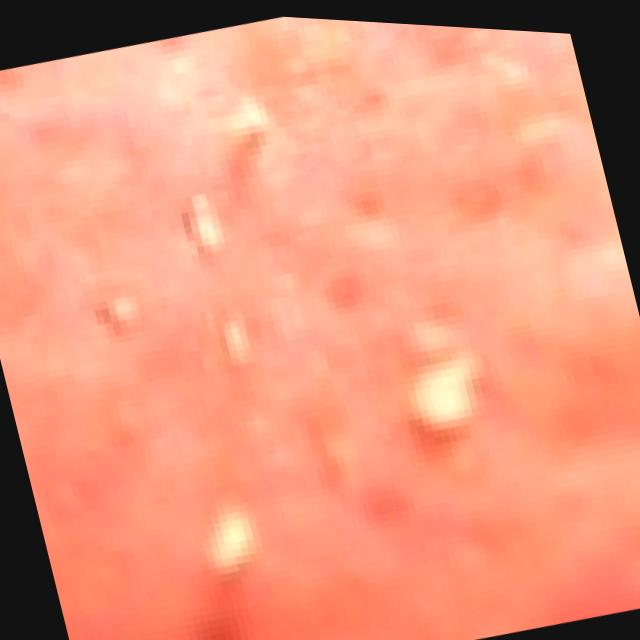whitehead: (75, 13, 629, 597)
